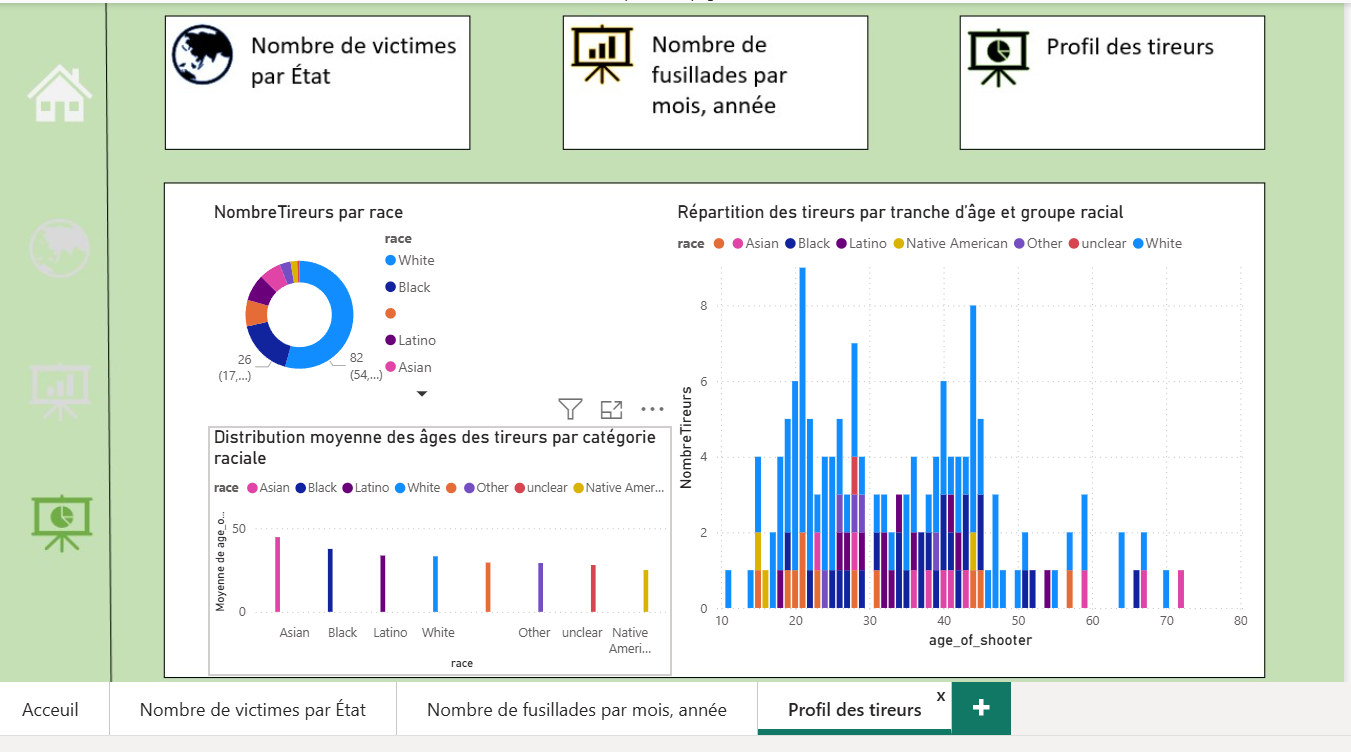

The dashboard page shown, as its layout file describes it:
{"tool":"powerbi","page":{"name":" Profil des tireurs","canvas":[1280,720],"ordinal":3},"visuals":[{"type":"donutChart","fields":{"Category":["Données.race"],"Y":["Données.NombreTireurs"]},"box":[197.9,246.8,242.6,195.7],"z":0},{"type":"columnChart","title":"Répartition des tireurs par tranche d’âge et groupe racial\n\n","fields":{"Category":["Données.age_of_shooter"],"Series":["Données.race"],"Y":["Données.NombreTireurs"]},"box":[640.4,246.8,553.2,429.8],"z":1000},{"type":"clusteredColumnChart","title":"Distribution moyenne des âges des tireurs par catégorie raciale\n\n","fields":{"Category":["Données.race"],"Series":["Données.race"],"Y":["Avg(Données.age_of_shooter)"]},"box":[197.9,461.7,442.6,236.2],"z":2000},{"type":"pageNavigator","box":[0,34,121.3,653.2],"z":3000},{"type":"pageNavigator","box":[161.7,0,1104.3,219.1],"z":4000}]}

Visuals, with their boxes on the page's 1280x720 design canvas (x1, y1, x2, y2). These are canvas units, not pixel positions in the 1351x752 screenshot, which may show the page scaled, cropped or inside an application window:
donutChart - Données.race x Données.NombreTireurs: (198, 247, 440, 442)
"Répartition des tireurs par tranche d’âge et groupe racial

" columnChart: (640, 247, 1194, 677)
"Distribution moyenne des âges des tireurs par catégorie raciale

" clusteredColumnChart: (198, 462, 640, 698)
pageNavigator: (0, 34, 121, 687)
pageNavigator: (162, 0, 1266, 219)
